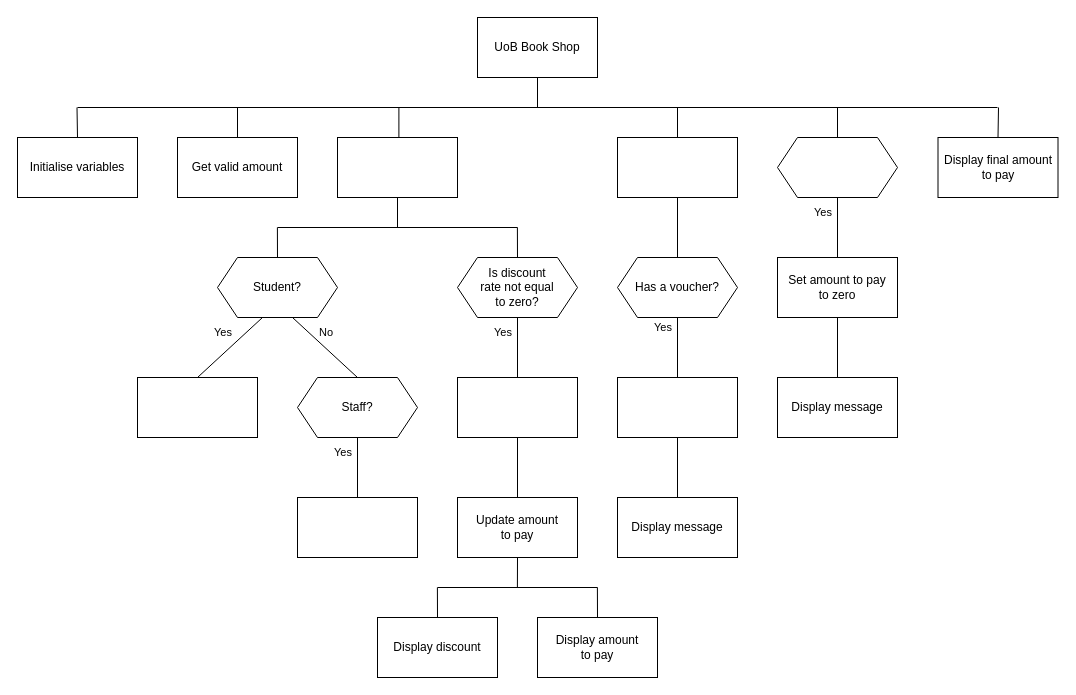
Image size: 1076x695. Some labels were removed from this diagram. Each missing label, with the centre of its shape:
"Calculate discount: amount to pay × (discount rate ÷ 100)" goes at point 517,407.
"Get discount type" goes at point 397,167.
"Get voucher" goes at point 677,167.
"Is amount to pay less than £0?" goes at point 837,167.
"Reduce amount to pay by £10" goes at point 677,407.
"Set discount rate to 10" goes at point 197,407.
"Set discount rate to 20" goes at point 357,527.
